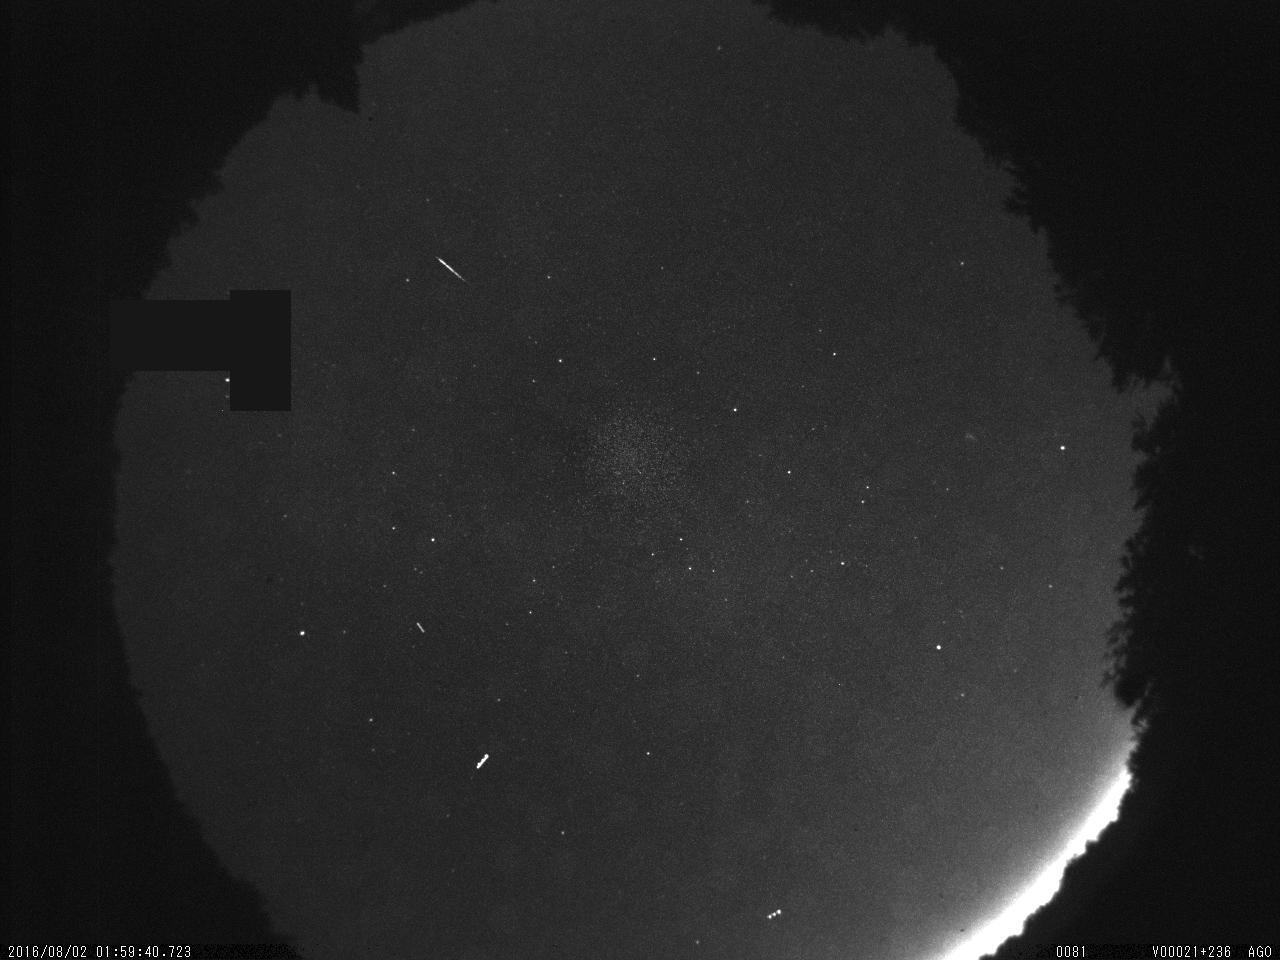meteor: (426, 247, 474, 294)
